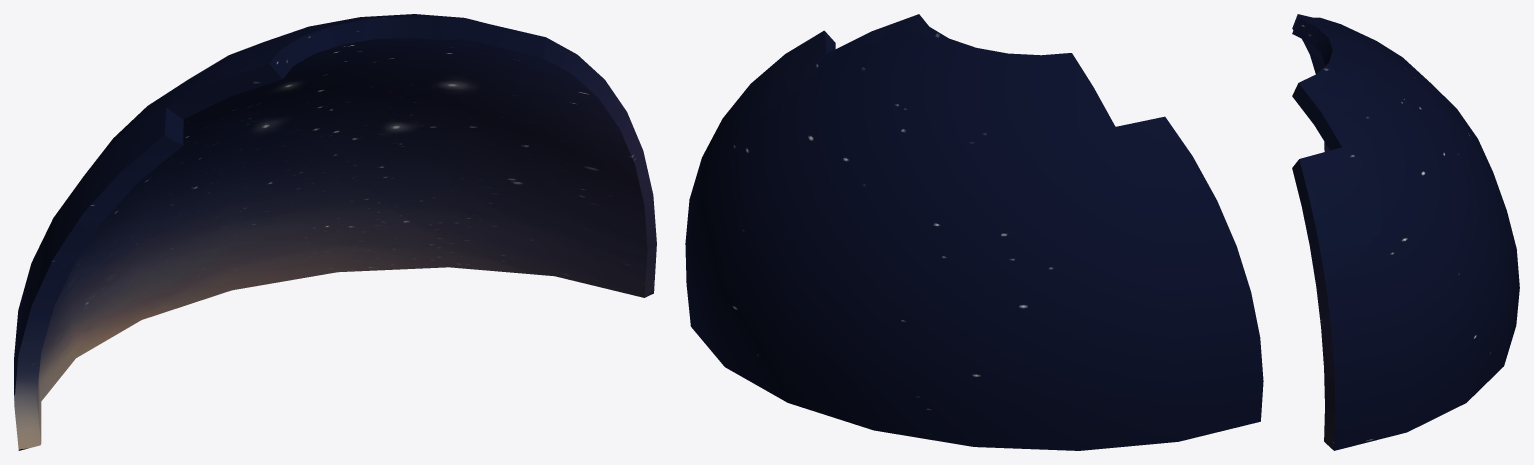
Rendered from ConstellationWall.fbx.
3 renders of one model, left to right at view 1: azimuth 30°, elevation 25°; view 2: azimuth 150°, elevation 25°; view 3: azimuth 270°, elevation 25°, orthographic. The views are drawn at different scales.
Visible parts, largest first — view 1: pSphere1; view 2: pSphere1; view 3: pSphere1.
Part boxes in pixels (x1,y1,x2,y2): pSphere1: [14, 14, 656, 450]; pSphere1: [685, 14, 1263, 450]; pSphere1: [1292, 14, 1519, 450].
Size of the model in its own units: 2.77 by 1.42 by 1.06.
1 material, 1 textured.
